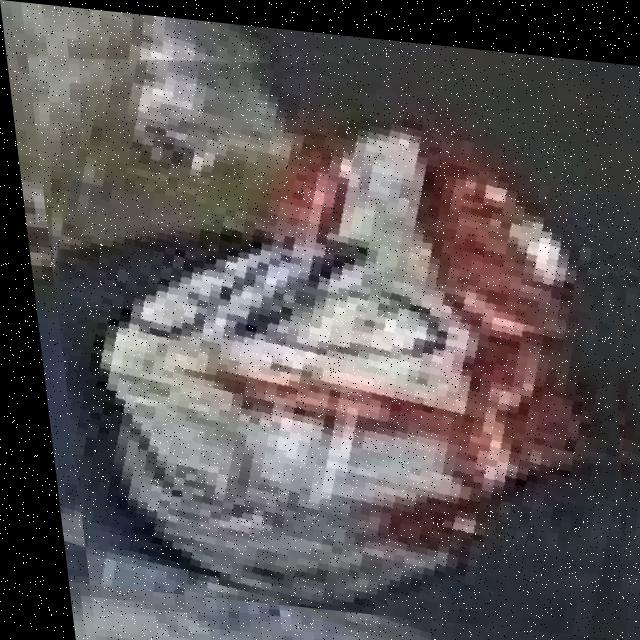can: (50, 51, 616, 607)
